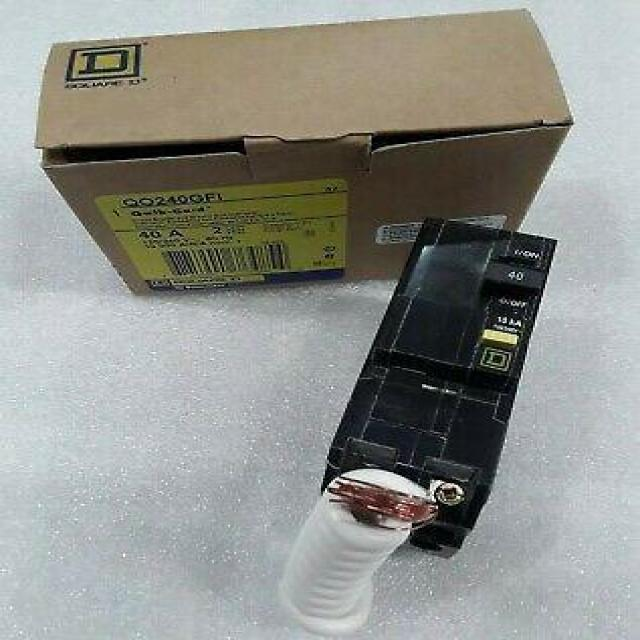cardboard: (34, 8, 576, 296)
